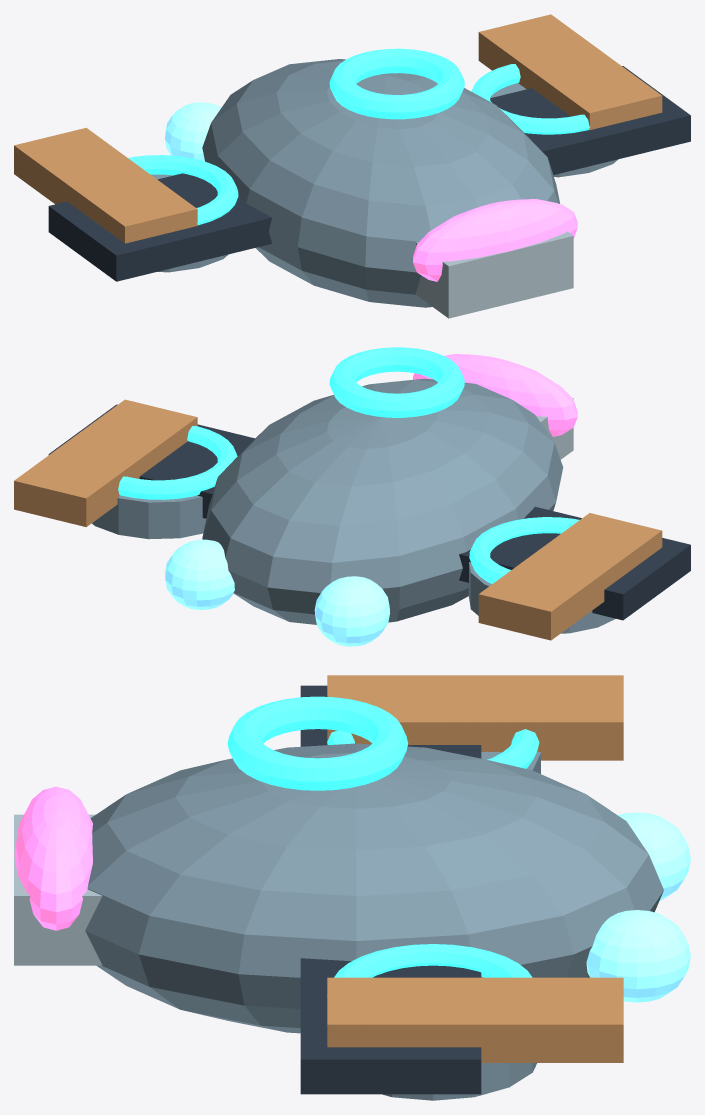
Rendered from velocity_scout.glb.
The picture shows the model from 3 angles, top to bottom: view 1: azimuth 30°, elevation 25°; view 2: azimuth 150°, elevation 25°; view 3: azimuth 270°, elevation 25°; orthographic projection. The views are drawn at different scales.
Parts seen in each view (by area): view 1: Streamlined anti-grav hull, Copper wing strake, Copper wing strake.001, Swept aero stabilizer, Angular speed nose, Swept aero stabilizer.001, Electronic visor, Top sensor wheel, Hover rotor illumination, Hover rotor illumination.001, Thruster, Ducted hover fan.001; view 2: Streamlined anti-grav hull, Copper wing strake, Copper wing strake.001, Top sensor wheel, Swept aero stabilizer, Electronic visor, Thruster, Thruster.001, Ducted hover fan.001, Hover rotor illumination.001, Swept aero stabilizer.001, Hover rotor illumination (+2 smaller); view 3: Streamlined anti-grav hull, Copper wing strake.001, Copper wing strake, Swept aero stabilizer.001, Top sensor wheel, Electronic visor, Thruster.001, Angular speed nose, Hover rotor illumination.001, Thruster, Ducted hover fan.001, Hover rotor illumination (+1 smaller).
Boxes of the visible parts, bbox=[...] form: Streamlined anti-grav hull: bbox=[202, 59, 559, 307]; Copper wing strake: bbox=[14, 127, 197, 243]; Copper wing strake.001: bbox=[478, 14, 662, 129]; Swept aero stabilizer: bbox=[48, 173, 271, 281]; Angular speed nose: bbox=[415, 231, 573, 318]; Swept aero stabilizer.001: bbox=[490, 66, 690, 174]; Electronic visor: bbox=[413, 199, 577, 281]; Top sensor wheel: bbox=[329, 48, 464, 119]; Hover rotor illumination: bbox=[128, 155, 238, 225]; Hover rotor illumination.001: bbox=[471, 64, 590, 134]; Thruster: bbox=[165, 102, 221, 161]; Ducted hover fan.001: bbox=[490, 83, 617, 177]; Streamlined anti-grav hull: bbox=[202, 378, 563, 624]; Copper wing strake: bbox=[478, 513, 662, 640]; Copper wing strake.001: bbox=[14, 399, 197, 527]; Top sensor wheel: bbox=[329, 347, 464, 417]; Swept aero stabilizer: bbox=[459, 506, 690, 620]; Electronic visor: bbox=[413, 354, 577, 436]; Thruster: bbox=[314, 576, 389, 646]; Thruster.001: bbox=[165, 539, 234, 609]; Ducted hover fan.001: bbox=[92, 495, 206, 539]; Hover rotor illumination.001: bbox=[118, 426, 237, 499]; Swept aero stabilizer.001: bbox=[48, 404, 254, 518]; Hover rotor illumination: bbox=[469, 517, 579, 583]; Streamlined anti-grav hull: bbox=[85, 743, 663, 1033]; Copper wing strake.001: bbox=[327, 977, 623, 1062]; Copper wing strake: bbox=[327, 675, 623, 760]; Swept aero stabilizer.001: bbox=[300, 958, 481, 1094]; Top sensor wheel: bbox=[227, 696, 408, 790]; Electronic visor: bbox=[14, 786, 92, 930]; Thruster.001: bbox=[586, 910, 690, 1002]; Angular speed nose: bbox=[14, 814, 102, 965]; Hover rotor illumination.001: bbox=[334, 944, 532, 977]; Thruster: bbox=[618, 812, 690, 901]; Ducted hover fan.001: bbox=[382, 976, 536, 1100]; Hover rotor illumination: bbox=[327, 729, 539, 768].
Bounding box in the file's own units: 2.3 × 0.795 × 1.76.
